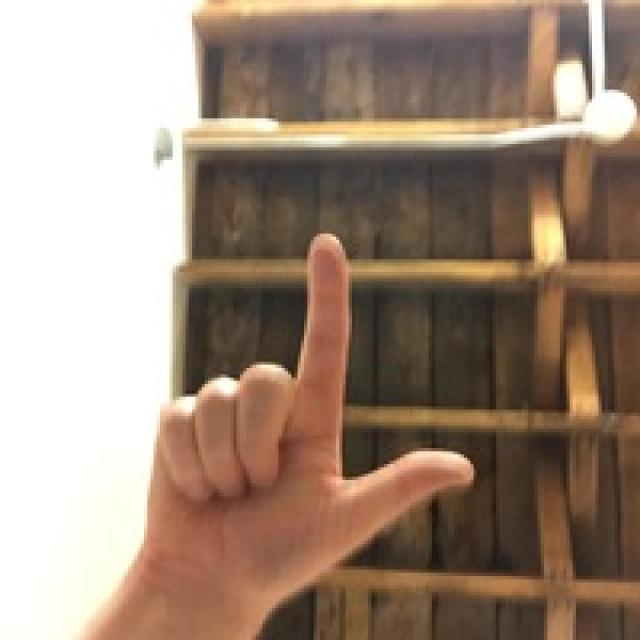L: (107, 199, 499, 620)
